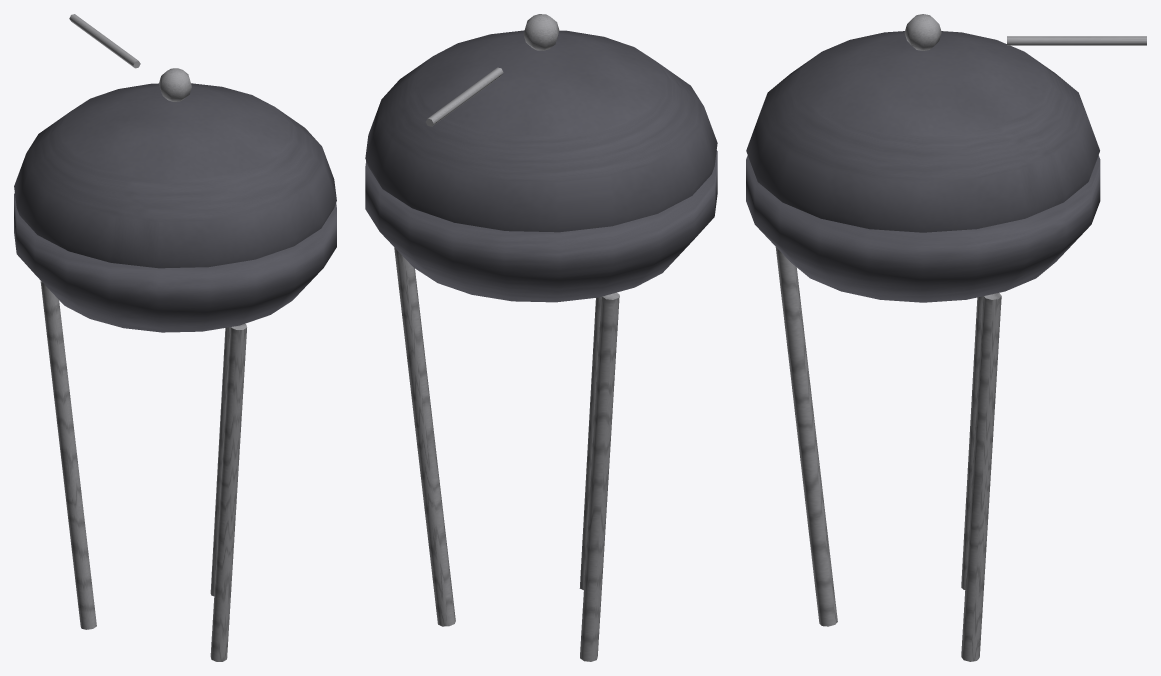
File: bbq.glb
3 renders of one model, left to right at view 1: azimuth 30°, elevation 25°; view 2: azimuth 150°, elevation 25°; view 3: azimuth 270°, elevation 25°, orthographic. The views are drawn at different scales.
Visible parts, largest first — view 1: bbq_body; view 2: bbq_body; view 3: bbq_body.
Boxes of the visible parts, x1=… form: bbq_body: x1=14, y1=14, x2=336, y2=661; bbq_body: x1=365, y1=14, x2=717, y2=661; bbq_body: x1=746, y1=14, x2=1146, y2=661.
Size of the model in its own units: 0.76 by 1.44 by 0.86.
4 materials, 4 textured.
